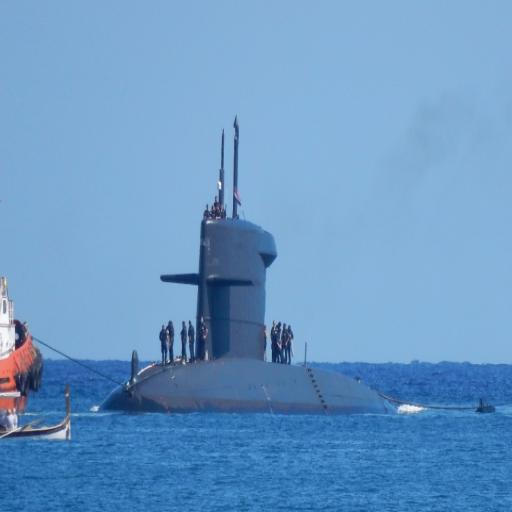submarine: (95, 77, 434, 414)
